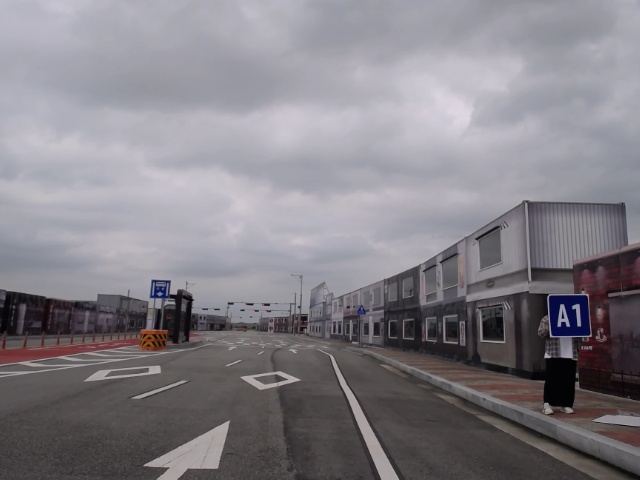delivery_a1: (548, 294, 592, 338)
